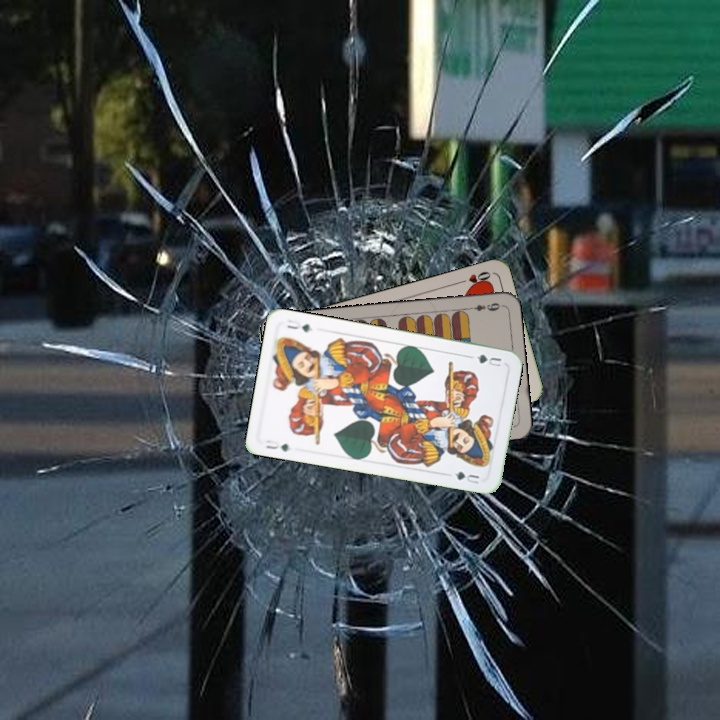E9: (464, 298, 502, 314)
GU: (473, 350, 504, 369), (262, 436, 292, 454)
HO: (455, 267, 493, 289)
